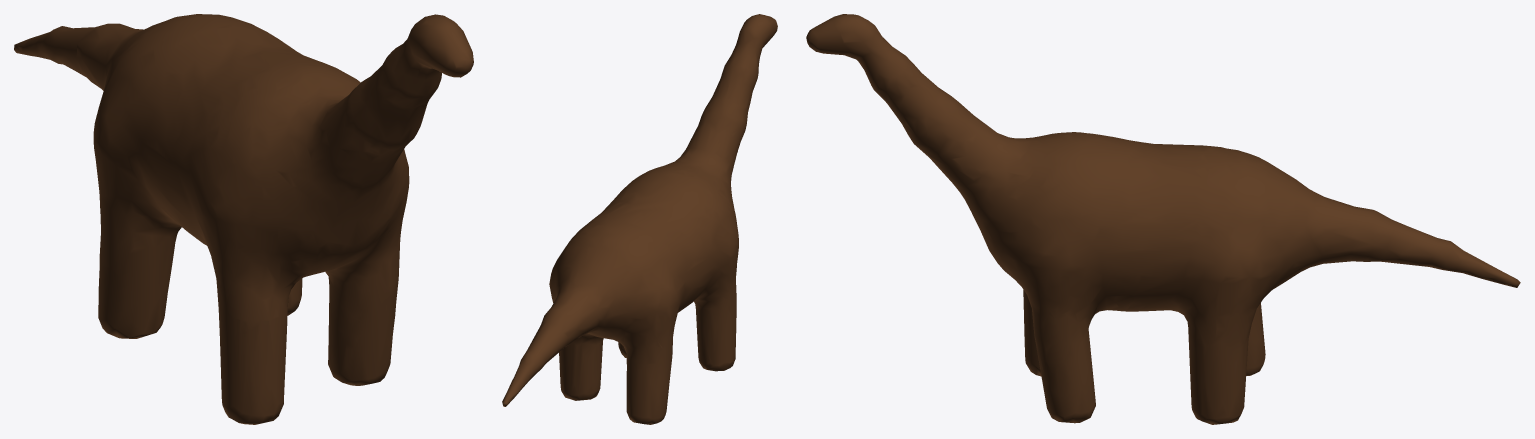
File: sdf_sauropod.obj
The picture shows the model from 3 angles, left to right: view 1: azimuth 30°, elevation 25°; view 2: azimuth 150°, elevation 25°; view 3: azimuth 270°, elevation 25°; orthographic projection. The views are drawn at different scales.
Parts seen in each view (by area): view 1: sdf_sauropod; view 2: sdf_sauropod; view 3: sdf_sauropod.
Boxes of the visible parts, bbox=[...] form: sdf_sauropod: bbox=[14, 14, 473, 424]; sdf_sauropod: bbox=[502, 14, 777, 424]; sdf_sauropod: bbox=[806, 14, 1520, 424].
Bounding box in the file's own units: 2.07 × 4.69 × 8.08.
